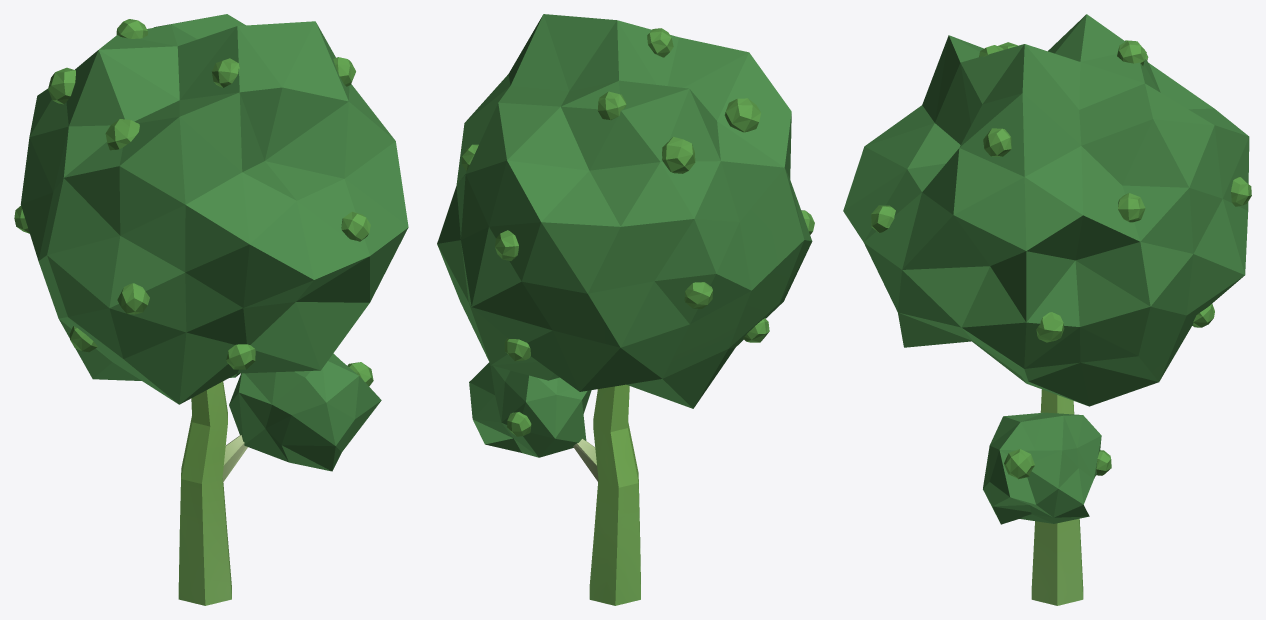
The model's file is tree_f.gltf.
3 renders of one model, left to right at view 1: azimuth 30°, elevation 25°; view 2: azimuth 150°, elevation 25°; view 3: azimuth 270°, elevation 25°, orthographic. The views are drawn at different scales.
Visible parts, largest first — view 1: tree_f001; view 2: tree_f001; view 3: tree_f001.
Part boxes in pixels (x1,y1,x2,y2): tree_f001: (14,14,408,605); tree_f001: (437,14,814,605); tree_f001: (843,14,1251,605).
Bounding box in the file's own units: 2.28 × 3.74 × 2.49.
Materials: 1 (1 with a texture image).
